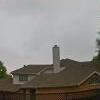Chimney: (44, 39, 74, 86)
